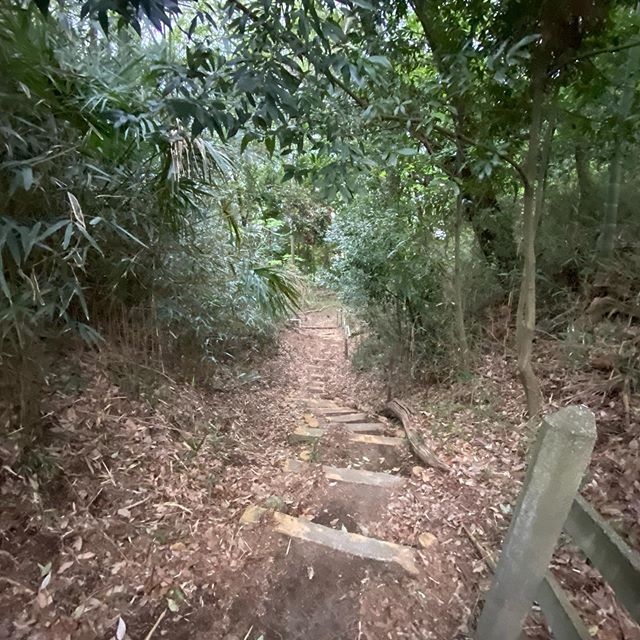vegetation: (1, 1, 640, 435)
